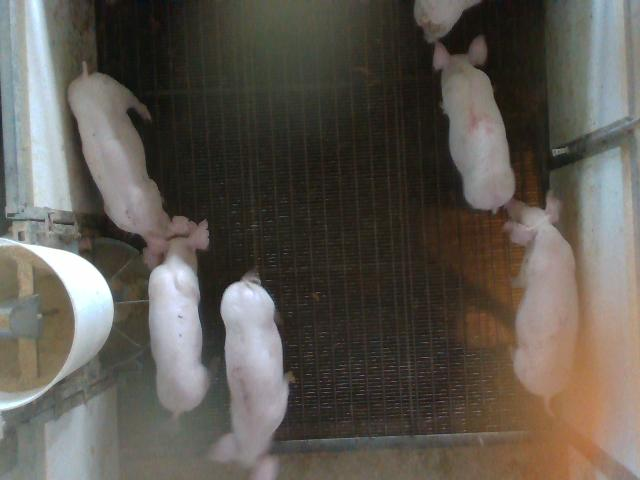pig-3: (210, 271, 294, 479)
pig-4: (434, 36, 515, 211)
